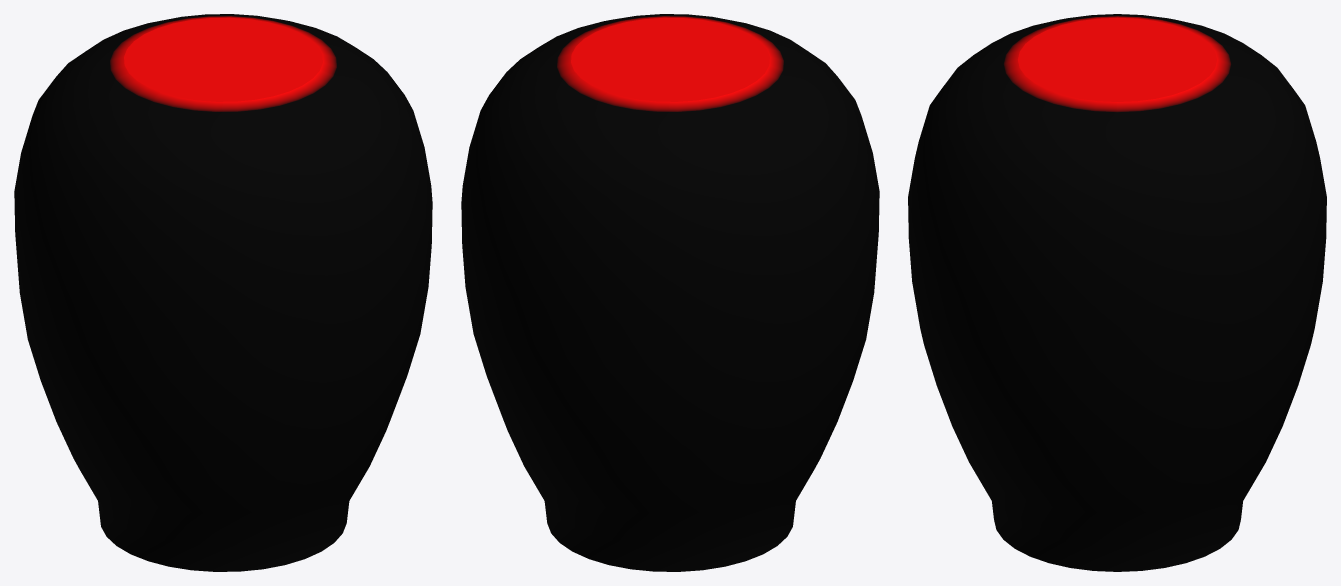
Rendered from Pot03Water.fbx.
3 renders of one model, left to right at view 1: azimuth 30°, elevation 25°; view 2: azimuth 150°, elevation 25°; view 3: azimuth 270°, elevation 25°, orthographic.
Visible parts, largest first — view 1: Plane.036; view 2: Plane.036; view 3: Plane.036.
Part boxes in pixels (<box>): Plane.036: <box>14,14,432,571</box>; Plane.036: <box>461,14,879,571</box>; Plane.036: <box>908,14,1326,571</box>.
Bounding box in the file's own units: 1.6 × 1.94 × 1.6.
